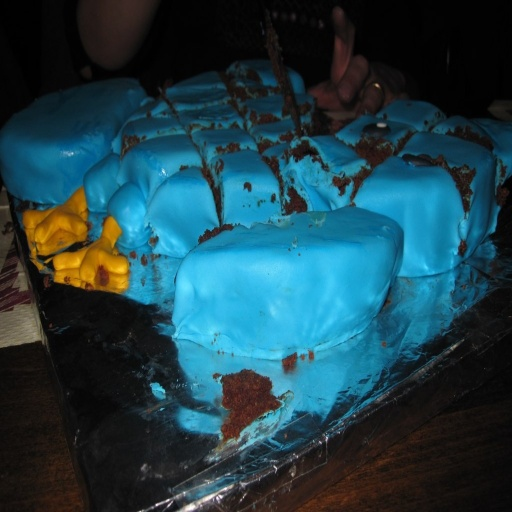hand: (336, 54, 385, 117)
